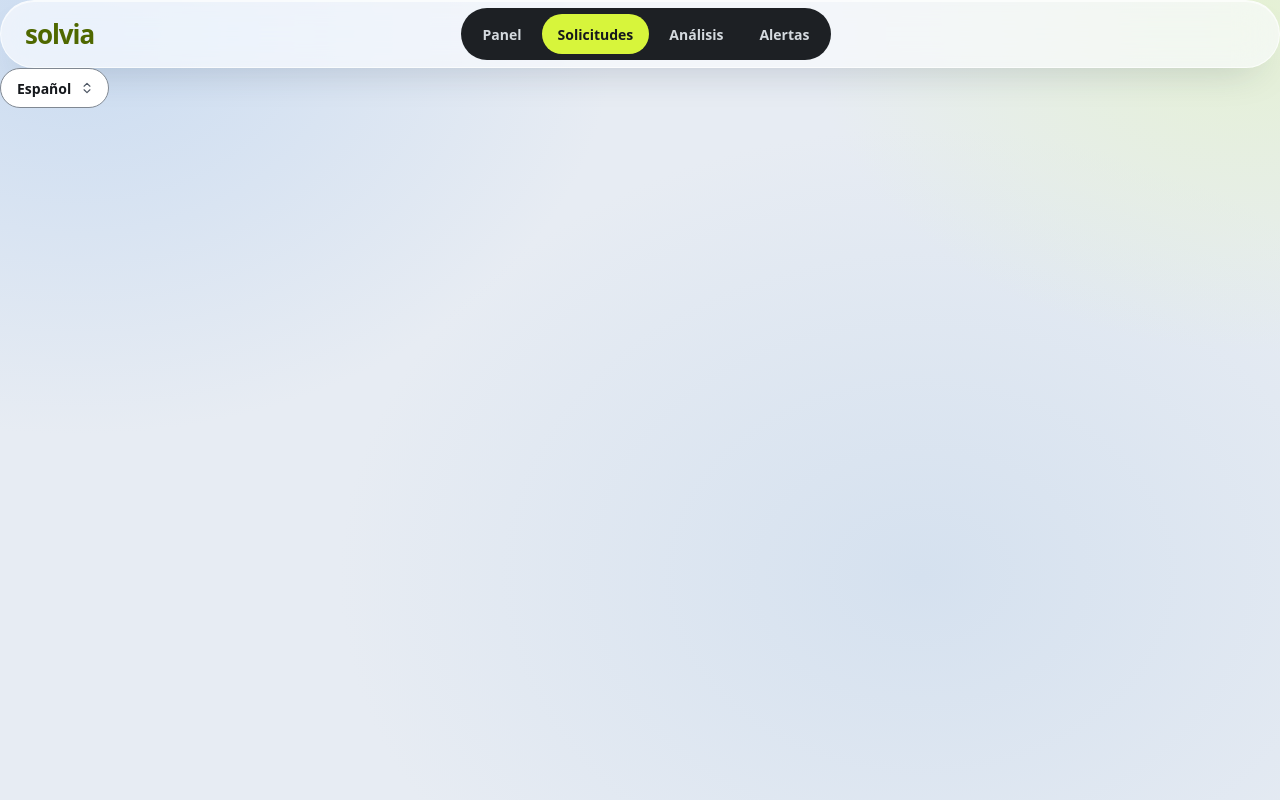
Test case: cambio de idioma › traduce la interfaz, actualiza <html lang> y recuerda la elección
Select "English" in the dropdown named "Idioma" at {"x": 44, "y": 88}, box left=17, top=78, right=72, bottom=98
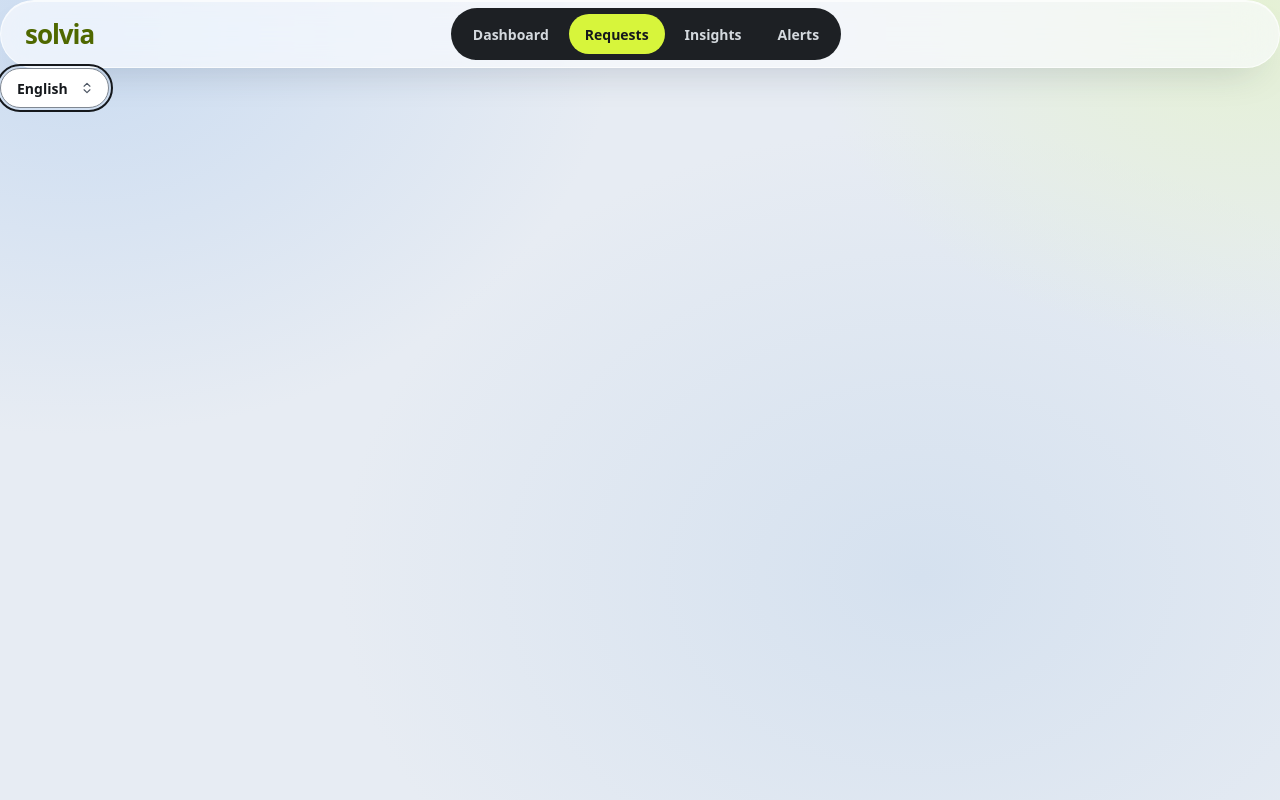
expect the link "Insights" is shown: met, box left=685, top=24, right=742, bottom=44
